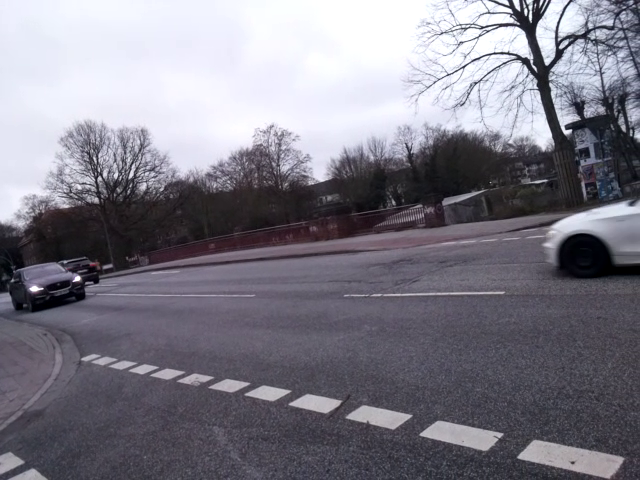car: (8, 255, 88, 321)
